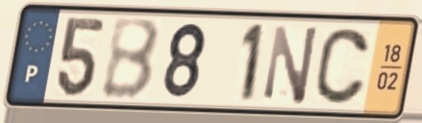1: (237, 21, 268, 106)
5: (55, 13, 109, 100)
8: (160, 19, 210, 102)
B: (98, 17, 163, 103)
C: (311, 25, 373, 108)
N: (261, 23, 322, 108)
